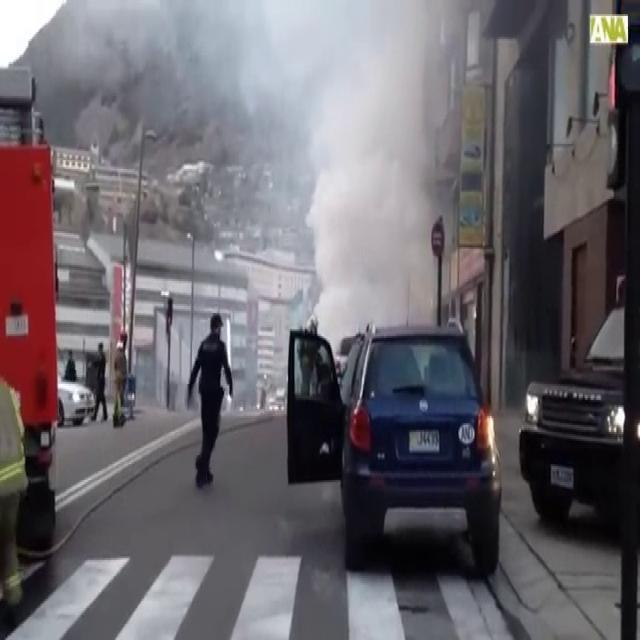Smoke: (283, 1, 471, 328)
